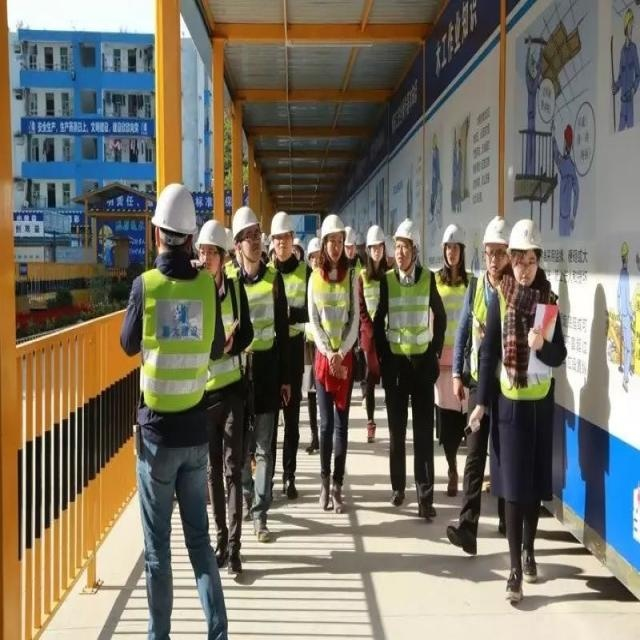Con_Casco: (153, 183, 199, 251), (509, 216, 543, 284), (441, 223, 468, 275), (394, 216, 422, 265)
Con_Chaleco: (141, 269, 215, 411), (380, 266, 439, 362), (312, 263, 356, 360)
